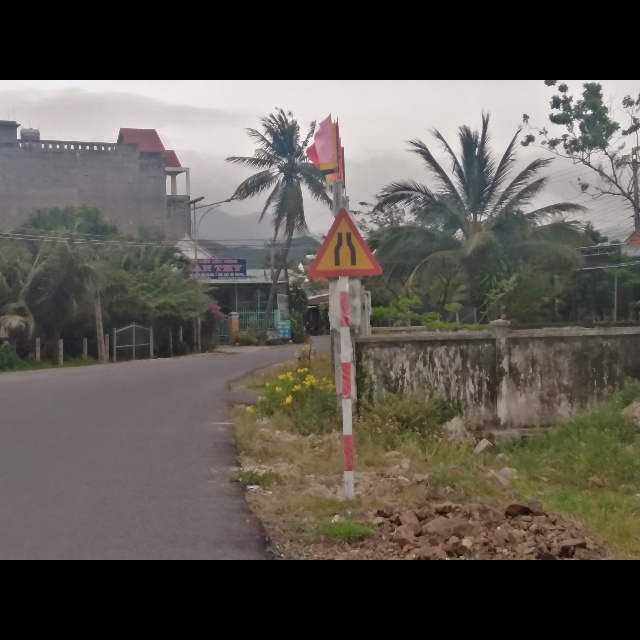Đường bị hẹp cả hai bên: (306, 209, 382, 276)
